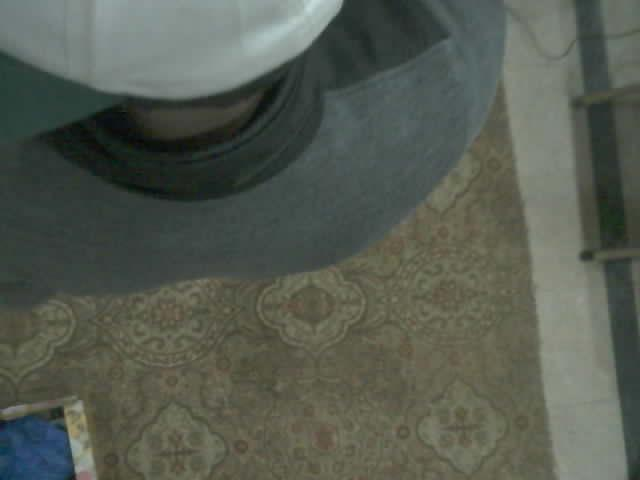cap: (0, 0, 344, 101)
